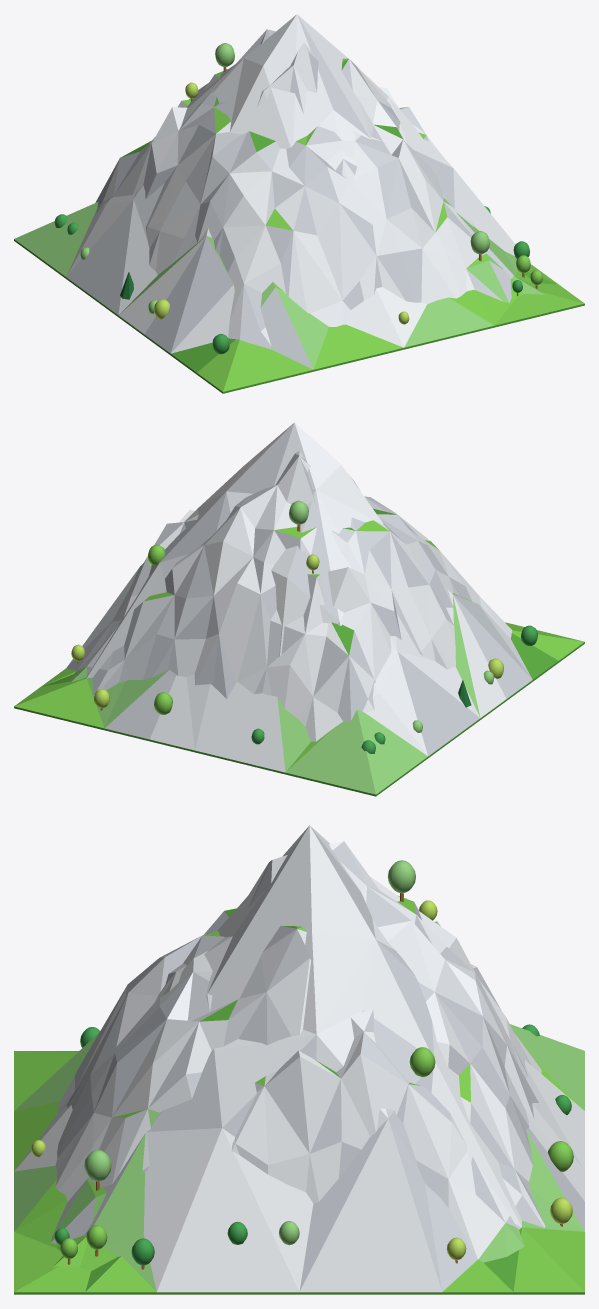
The model's file is montanha_grande.glb.
3 views of the same model, one above another, from view 1: azimuth 30°, elevation 25°; view 2: azimuth 150°, elevation 25°; view 3: azimuth 270°, elevation 25° (orthographic). The views are drawn at different scales.
Visible parts, largest first — view 1: montanha_grande, colisao_montanha; view 2: montanha_grande, colisao_montanha; view 3: colisao_montanha, montanha_grande.
Boxes of the visible parts, x1=… form: montanha_grande: x1=14, y1=29, x2=584, y2=393; colisao_montanha: x1=14, y1=14, x2=584, y2=393; montanha_grande: x1=14, y1=451, x2=584, y2=796; colisao_montanha: x1=14, y1=422, x2=584, y2=796; colisao_montanha: x1=14, y1=825, x2=584, y2=1294; montanha_grande: x1=14, y1=841, x2=580, y2=1294.
Bounding box in the file's own units: 60 × 40.56 × 60.
1 material, 1 textured.
